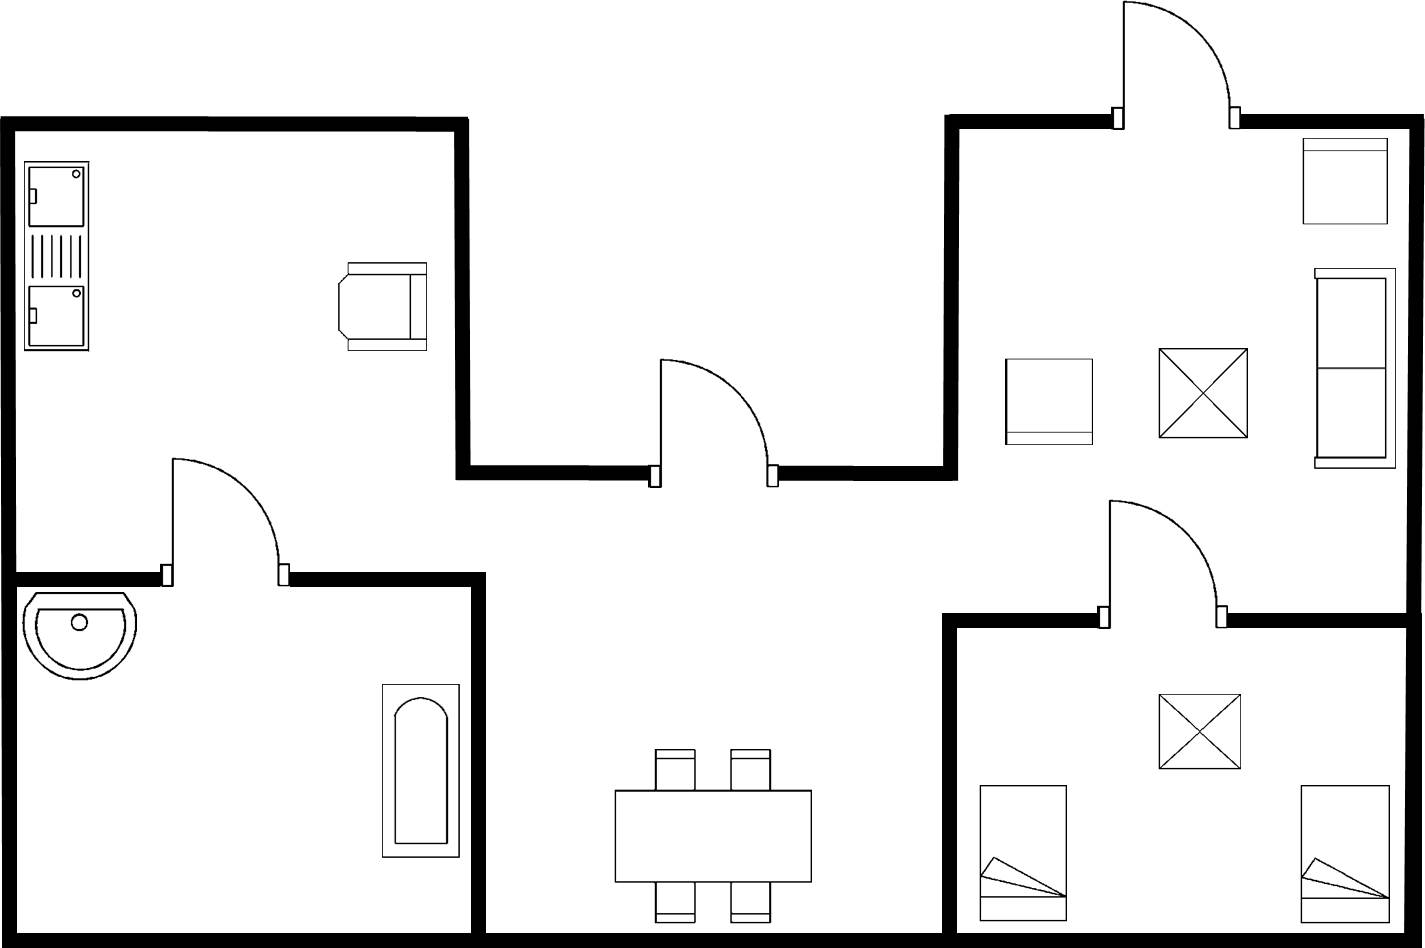armchair: (329, 257, 433, 357)
bed: (1293, 779, 1396, 928), (975, 779, 1076, 927)
coffee_table: (1151, 341, 1255, 445), (1149, 687, 1249, 776)
dining_table: (610, 744, 819, 929)
large_sofa: (1306, 261, 1402, 476)
small_sink: (19, 588, 141, 683)
small_sofa: (999, 351, 1098, 451), (1294, 134, 1393, 233)
tub: (372, 678, 466, 864)
twin_sink: (19, 157, 93, 358)
